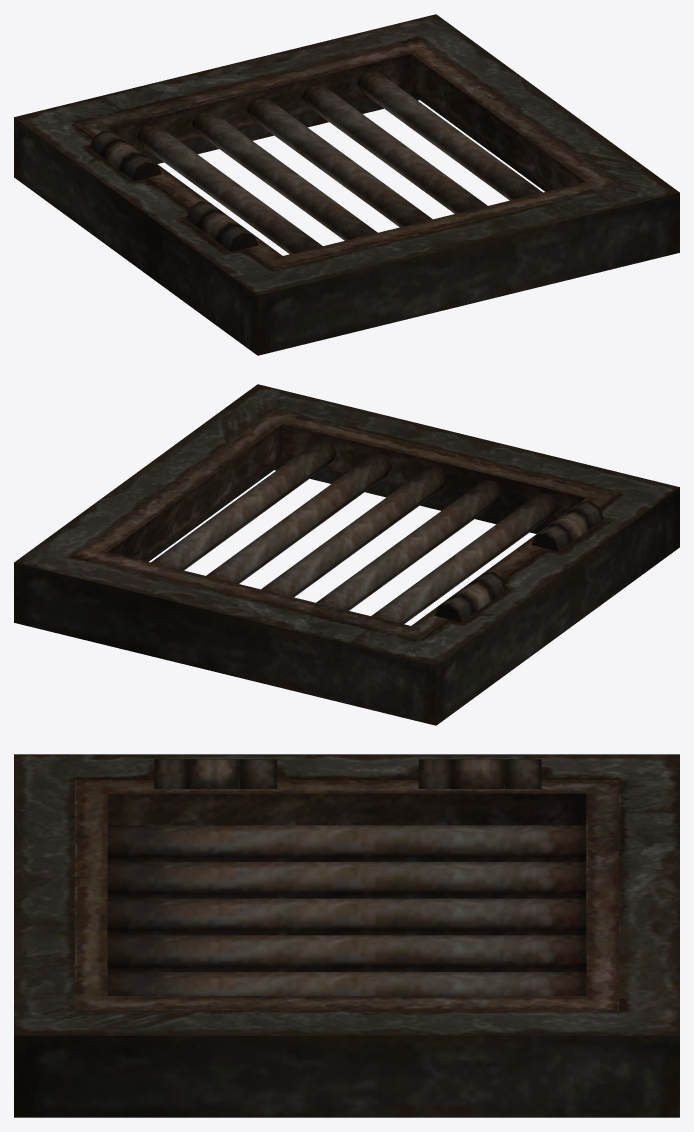
The model's file is hatch_drainage.dae.
3 views of the same model, one above another, from view 1: azimuth 30°, elevation 25°; view 2: azimuth 150°, elevation 25°; view 3: azimuth 270°, elevation 25° (orthographic). The views are drawn at different scales.
Visible parts, largest first — view 1: frame, hatch; view 2: frame, hatch; view 3: hatch, frame.
Part boxes in pixels (x1=…): frame: x1=14, y1=14, x2=679, y2=355; hatch: x1=75, y1=40, x2=618, y2=269; frame: x1=14, y1=384, x2=679, y2=725; hatch: x1=75, y1=410, x2=618, y2=639; hatch: x1=75, y1=759, x2=618, y2=1009; frame: x1=14, y1=754, x2=679, y2=1117.
Size of the model in its own units: 0.7323 by 0.7323 by 0.1237.
